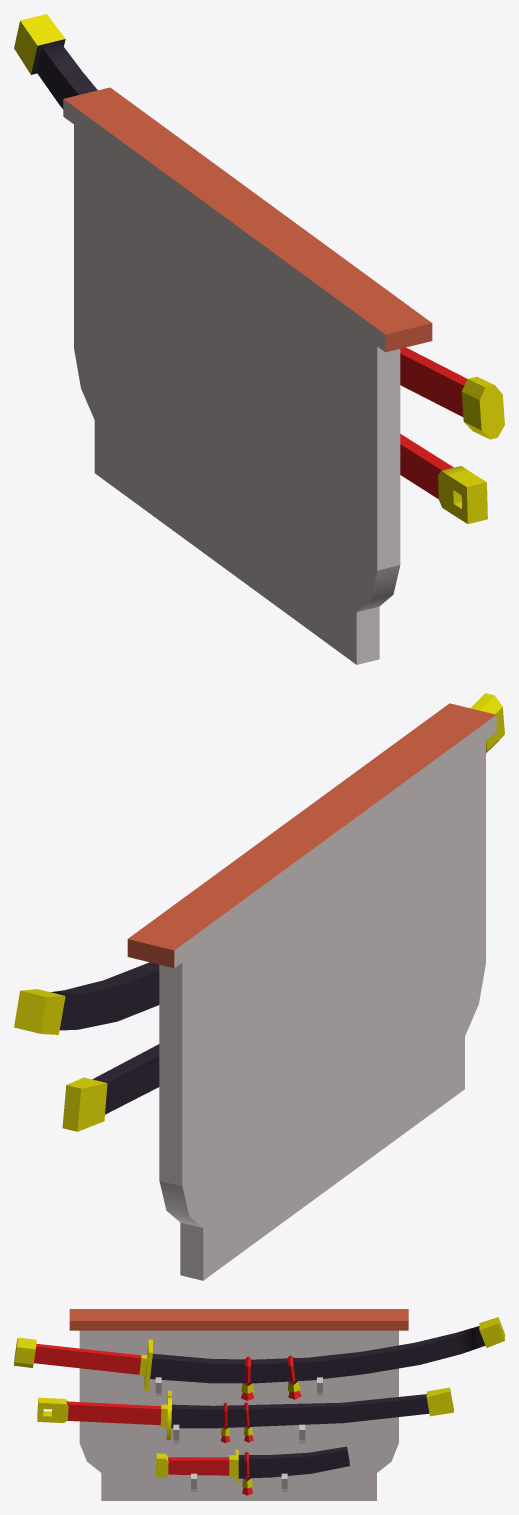
The model's file is ShelveWithKatana.fbx.
The picture shows the model from 3 angles, top to bottom: view 1: azimuth 30°, elevation 25°; view 2: azimuth 150°, elevation 25°; view 3: azimuth 270°, elevation 25°; orthographic projection. The views are drawn at different scales.
Visible parts, largest first — view 1: SM_fasteners_01; view 2: SM_fasteners_01; view 3: SM_fasteners_01.
Part boxes in pixels (x1,y1,x2,y2): SM_fasteners_01: (14,14,504,664); SM_fasteners_01: (14,693,504,1280); SM_fasteners_01: (14,1309,504,1500).
Bounding box in the file's own units: 22.57 × 80.91 × 191.
